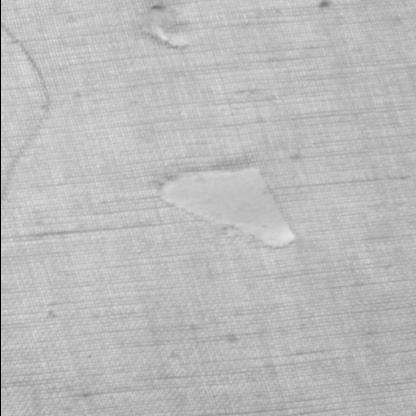objects: (156, 164, 300, 254), (1, 17, 53, 207), (138, 2, 192, 51)
